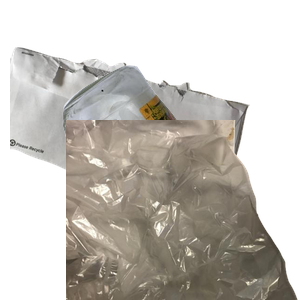glass: (60, 63, 300, 243)
paper: (10, 45, 250, 225)
plastic: (100, 152, 293, 300)
trash: (66, 120, 300, 300)
